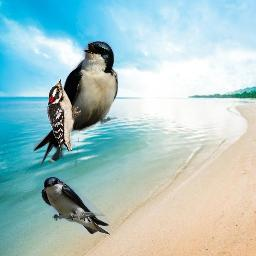Swallow: (33, 41, 118, 167), (41, 177, 110, 235)
Woodpecker: (47, 78, 81, 151)
